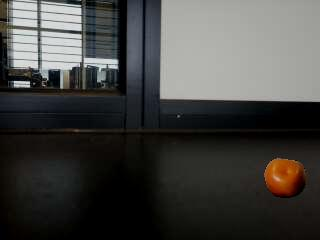Potato: (266, 158, 306, 199)
